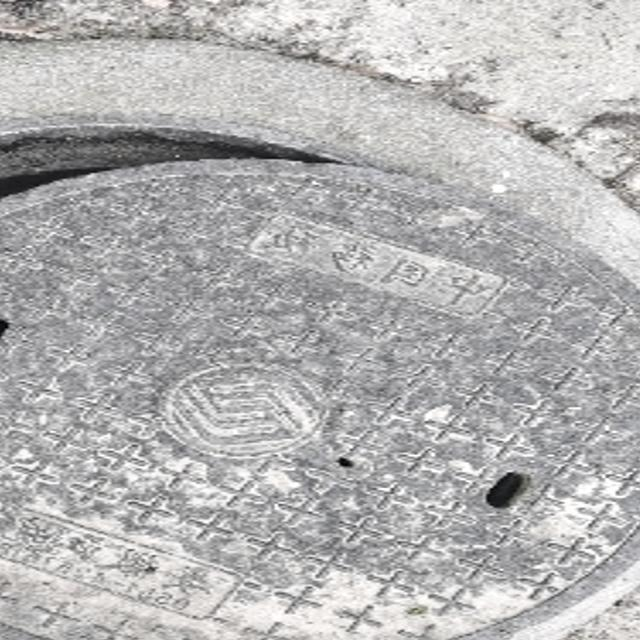uncovered: (0, 115, 640, 640)
